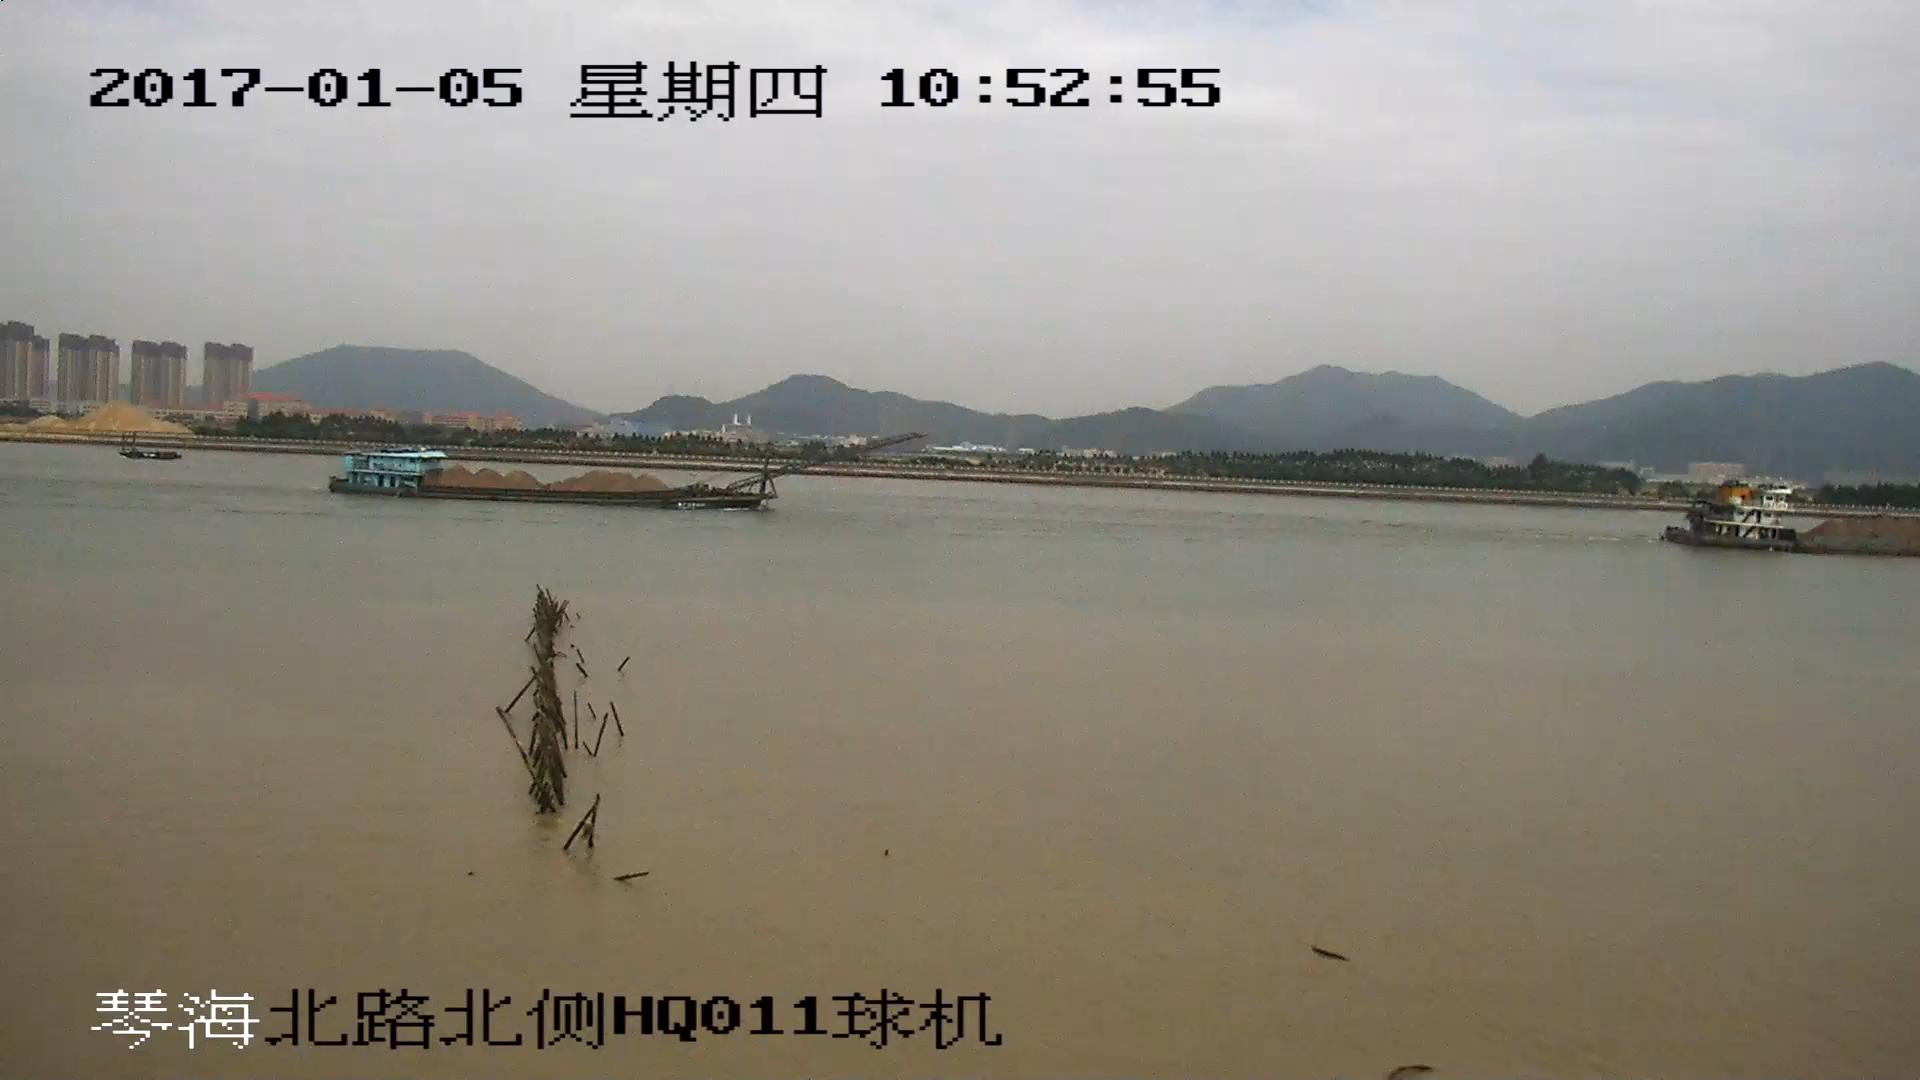ore carrier: (330, 430, 922, 508), (1668, 478, 1920, 556)
